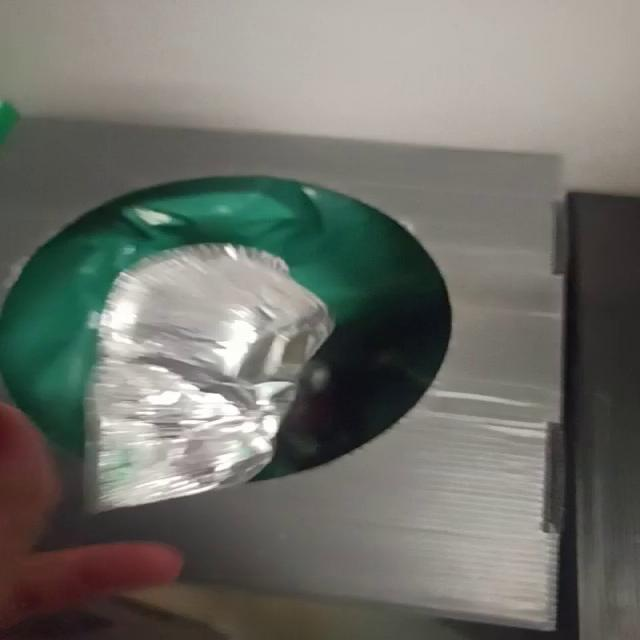Bin: (1, 120, 561, 630)
Metal: (84, 244, 333, 512)
